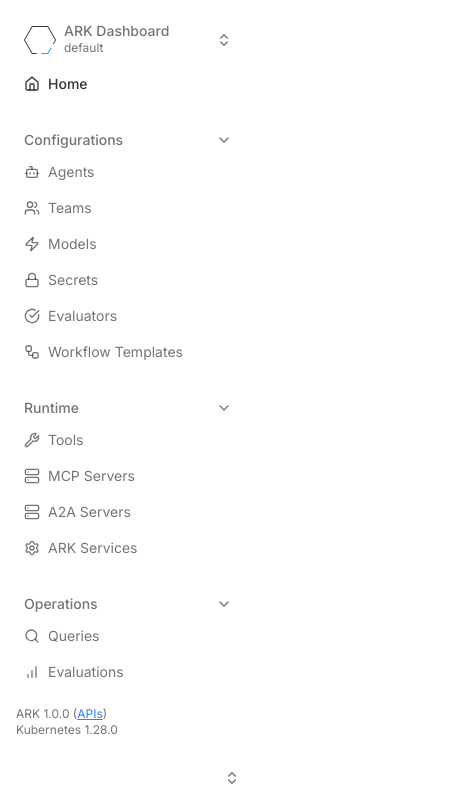
it: AppSidebar - Experimental Features Menu Item › should show Experimental Features option in the namespace dropdown
Click the text "ARK Dashboard".
click(117, 31)  # box [64, 24, 169, 38]
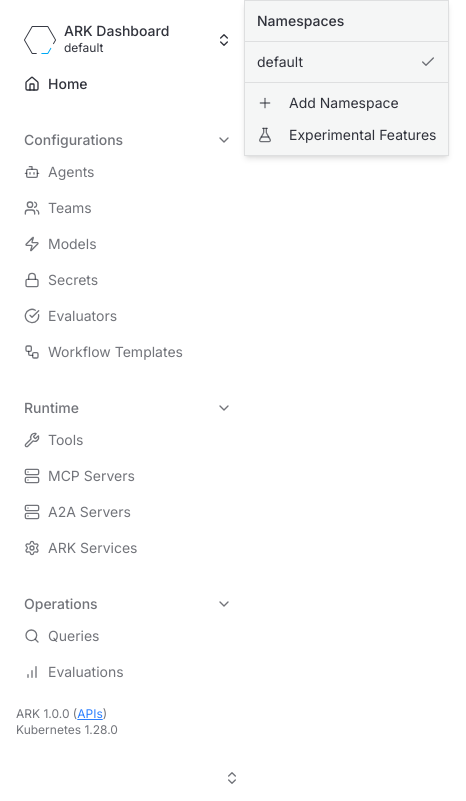
Now the menu item "Experimental Features" is shown, box [257, 126, 436, 143]
